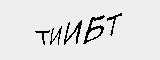Б: (83, 14, 106, 46)
И: (66, 19, 80, 46), (49, 25, 62, 46)
Т: (107, 12, 122, 39), (34, 27, 49, 49)
